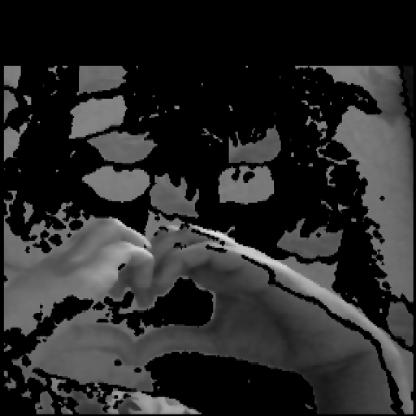heart: (44, 210, 285, 390)
